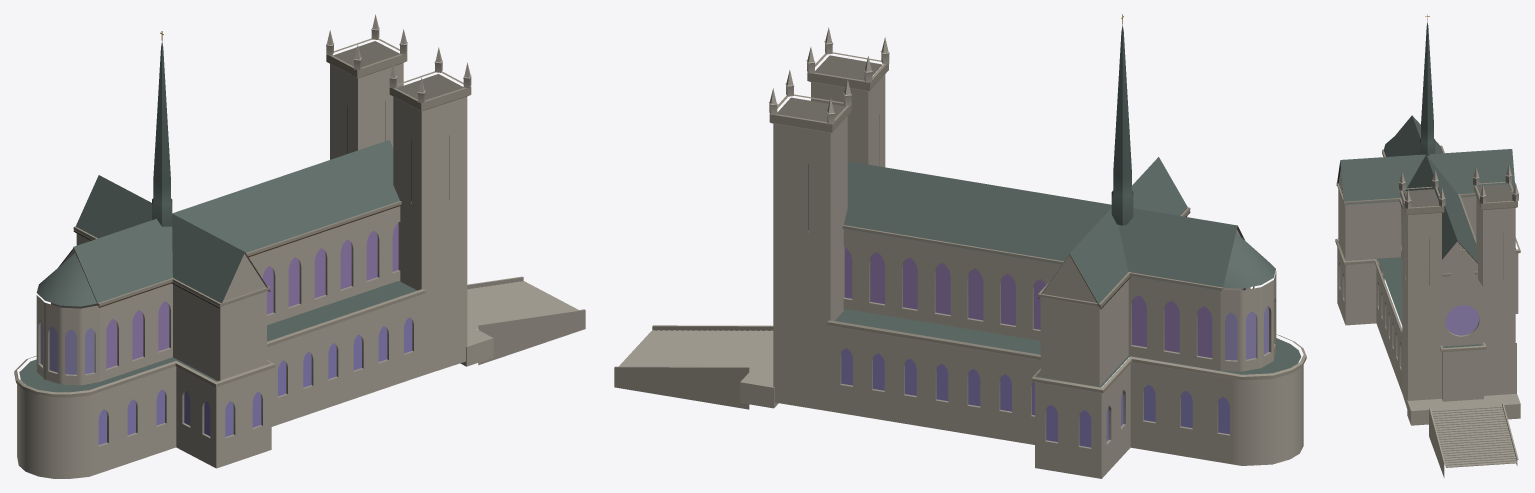
File: grace_lod1.glb
The picture shows the model from 3 angles, left to right: view 1: azimuth 30°, elevation 25°; view 2: azimuth 150°, elevation 25°; view 3: azimuth 270°, elevation 25°; orthographic projection. The views are drawn at different scales.
Visible parts, largest first — view 1: L1_stone, L1_metal, L1_win, L1_granite, L1_roof, L1_paving, L1_wood; view 2: L1_stone, L1_metal, L1_win, L1_granite, L1_roof, L1_paving; view 3: L1_stone, L1_metal, L1_granite, L1_roof, L1_paving, L1_win.
Boxes of the visible parts, <box> form: L1_stone: <box>14,14,471,478</box>; L1_metal: <box>36,41,401,307</box>; L1_win: <box>40,105,412,444</box>; L1_granite: <box>467,276,585,365</box>; L1_roof: <box>19,41,463,392</box>; L1_paving: <box>460,324,493,366</box>; L1_wood: <box>73,204,401,308</box>; L1_stone: <box>769,27,1306,478</box>; L1_metal: <box>843,25,1275,307</box>; L1_win: <box>808,164,1268,447</box>; L1_granite: <box>614,325,773,409</box>; L1_roof: <box>777,55,1301,387</box>; L1_paving: <box>740,346,778,408</box>; L1_stone: <box>1335,145,1520,408</box>; L1_metal: <box>1336,22,1514,262</box>; L1_granite: <box>1429,402,1518,477</box>; L1_roof: <box>1348,184,1515,347</box>; L1_paving: <box>1407,394,1520,425</box>; L1_win: <box>1445,305,1479,335</box>.
Size of the model in its own units: 126 by 84.22 by 46.15.
